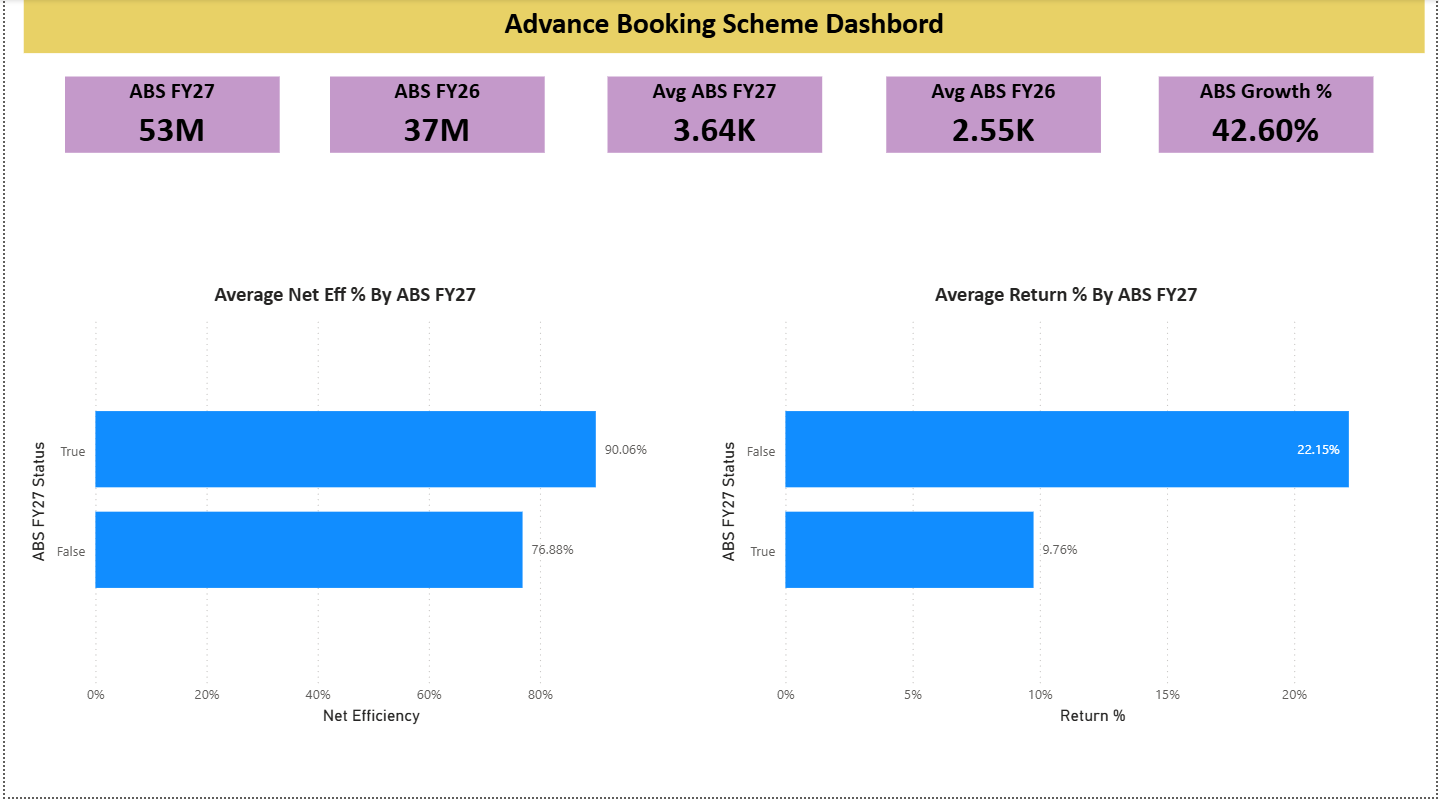

This screenshot's page, from the dashboard's own definition file:
{"tool":"powerbi","page":{"name":"ABS Performence","canvas":[1290,720],"ordinal":1},"visuals":[{"type":"card","title":"ABS FY26","fields":{"Values":["Sum(ABS_RAW.ABS_Amt_Fy26)"]},"box":[293.5,69.7,193.2,68.5],"z":0},{"type":"textbox","box":[17.1,0,1263.2,48.9],"z":1000},{"type":"card","title":"ABS FY27","fields":{"Values":["Sum(ABS_RAW.ABS_Amt_Fy27)"]},"box":[53.8,69.7,193.2,68.5],"z":2000},{"type":"card","title":"Avg ABS FY27","fields":{"Values":["Avg(ABS_RAW.ABS_Amt_Fy27)"]},"box":[542.9,69.7,193.2,68.5],"z":3000},{"type":"card","title":"Avg ABS FY26","fields":{"Values":["Avg(ABS_RAW.ABS_Amt_Fy26)"]},"box":[794.8,69.7,193.2,68.5],"z":4000},{"type":"card","title":"ABS Growth %","fields":{"Values":["ABS_RAW.ABS Growth %"]},"box":[1040.6,69.7,193.2,68.5],"z":5000},{"type":"clusteredBarChart","title":"Average Net Eff % By ABS FY27","fields":{"Category":["ABS_RAW.abs_flag_fy27"],"Y":["Avg(ABS_RAW.net_efficiency)"]},"box":[17.1,254.3,579.6,404.8],"z":6000},{"type":"clusteredBarChart","title":"Average Return % By ABS FY27","fields":{"Category":["ABS_RAW.abs_flag_fy27"],"Y":["Avg(ABS_RAW.return_pct)"]},"box":[639.5,254.3,635.9,404.8],"z":7000}]}

Visuals, with their boxes in screenshot pixels (x1, y1, x2, y2), scaled from the page's 1290x720 canvas onto the 1439x801 screenshot:
"ABS FY26" card: locate(327, 78, 543, 154)
textbox: locate(19, 0, 1428, 54)
"ABS FY27" card: locate(60, 78, 276, 154)
"Avg ABS FY27" card: locate(606, 78, 821, 154)
"Avg ABS FY26" card: locate(887, 78, 1102, 154)
"ABS Growth %" card: locate(1161, 78, 1376, 154)
"Average Net Eff % By ABS FY27" clusteredBarChart: locate(19, 283, 666, 733)
"Average Return % By ABS FY27" clusteredBarChart: locate(713, 283, 1423, 733)
